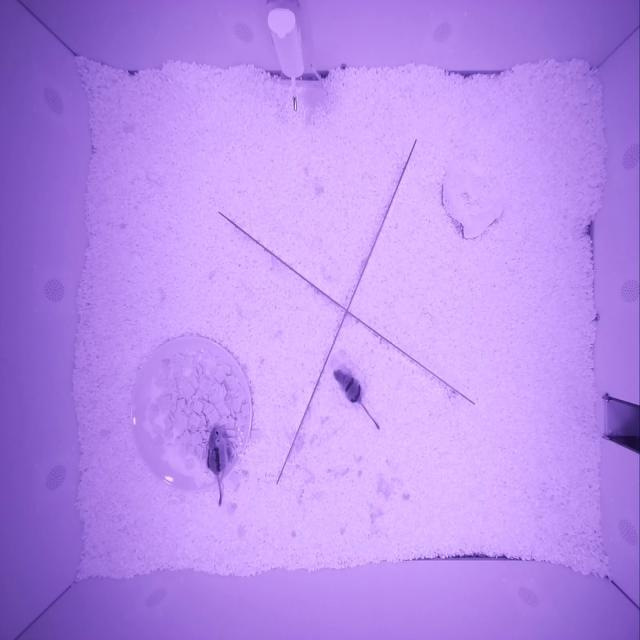pup_h_stripe: (333, 370, 362, 404)
pup_v_stripe: (206, 427, 228, 475)
